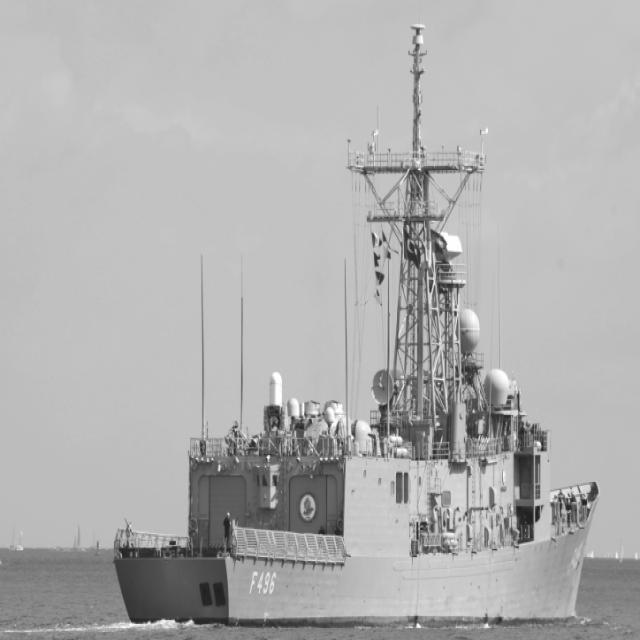Fragata: (109, 14, 603, 633)
